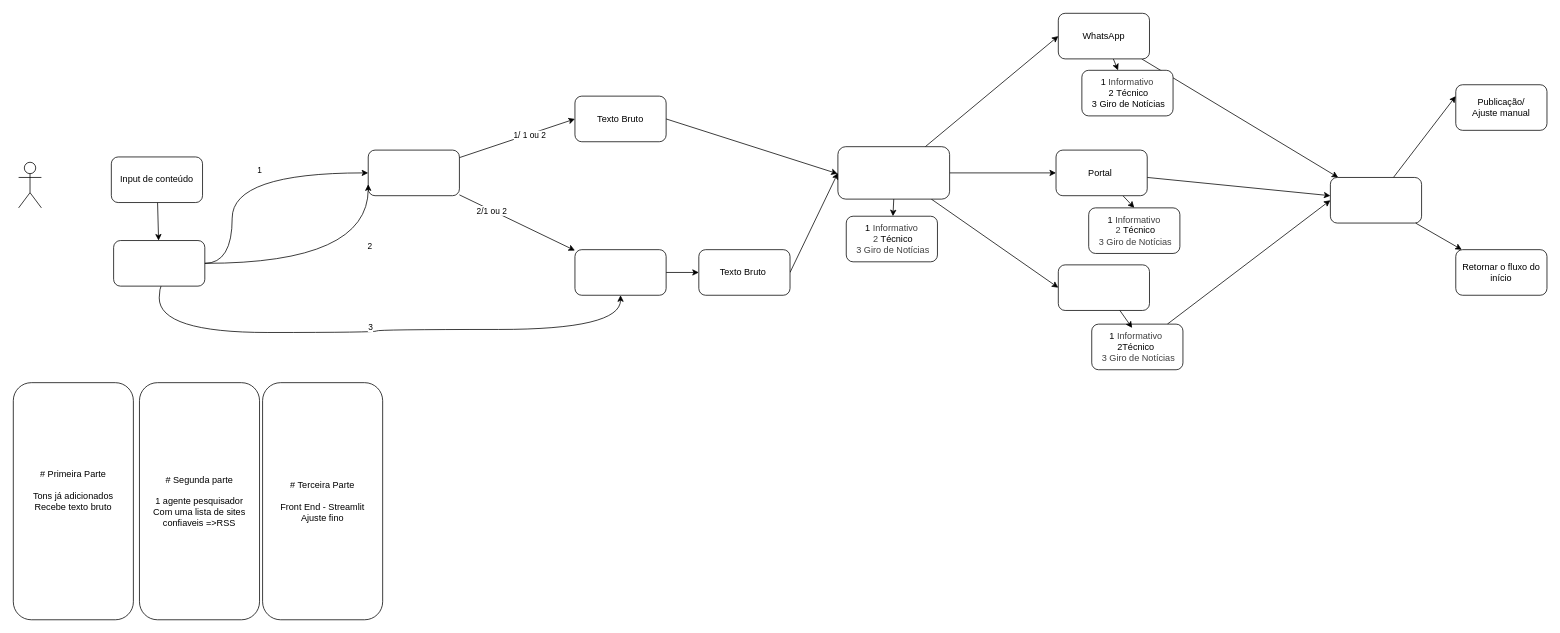
The diagram is 1560 pixels wide and 633 high, and some of its shapes have lost their labels. Here are the shapes that lost their labels. From the top down, the centre of each, then its label:
At point 29,185: "Actor".
At point 413,172: "1 . /Informativo 2. /Técnico 3. Giro de Notícias".
At point 893,172: "Prompt0 - Briefing Editorial Estruturado do Conteúdo Bruto".
At point 1376,200: "Validação Marketing/Data Science".
At point 159,263: "1. Texto bruto 2. Escolher tema 3. Giro de notícias".
At point 620,272: "Pesquisa internet".
At point 1104,287: "e-mail".
